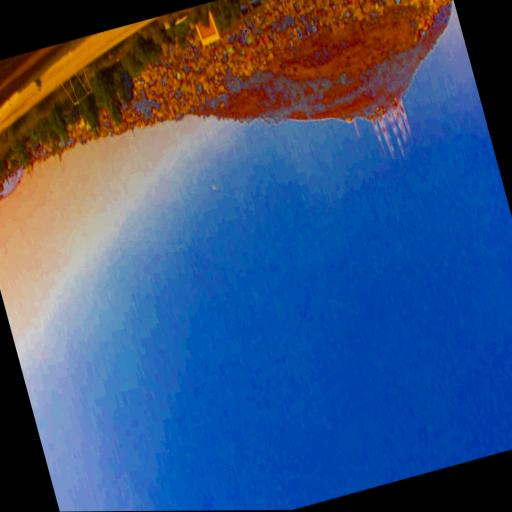drones: (210, 182, 218, 190)
